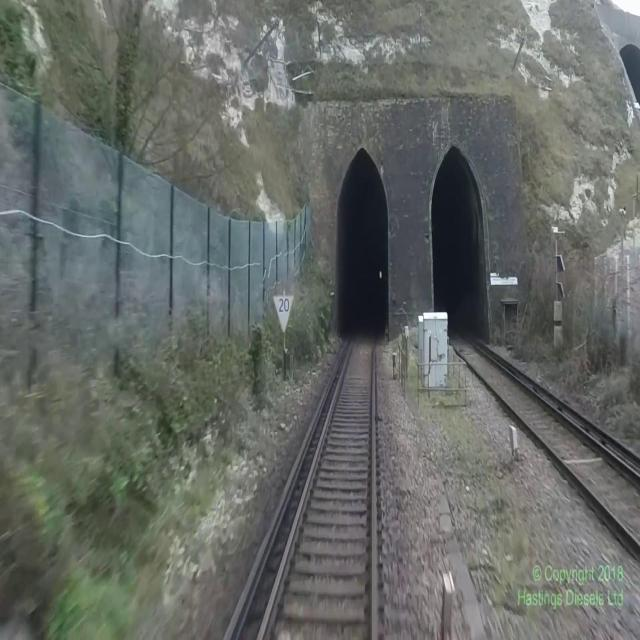rail-track: (453, 341, 640, 540), (261, 332, 373, 639)
